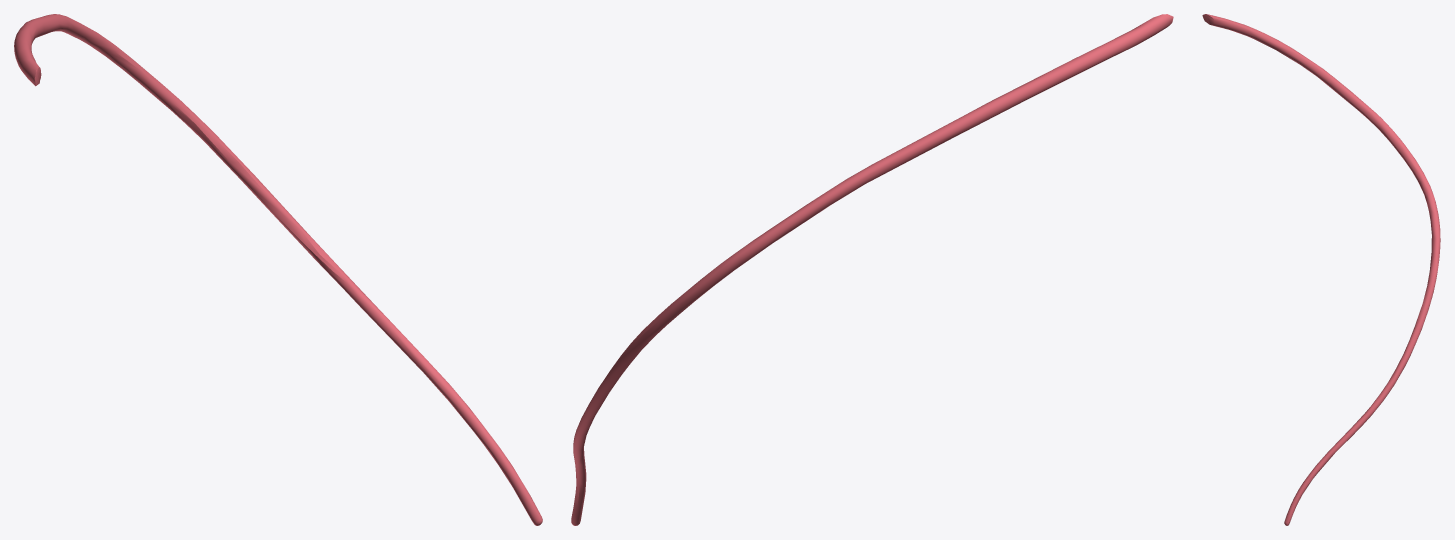
The model's file is fma4951_fj1987.glb.
3 views of the same model, side by side, from view 1: azimuth 30°, elevation 25°; view 2: azimuth 150°, elevation 25°; view 3: azimuth 270°, elevation 25° (orthographic). The views are drawn at different scales.
Visible parts, largest first — view 1: FMA4951_FJ1987; view 2: FMA4951_FJ1987; view 3: FMA4951_FJ1987.
Boxes of the visible parts, x1=… form: FMA4951_FJ1987: x1=14, y1=14, x2=542, y2=525; FMA4951_FJ1987: x1=571, y1=14, x2=1173, y2=525; FMA4951_FJ1987: x1=1202, y1=14, x2=1440, y2=525.
Bounding box in the file's own units: 0.0609 × 0.0647 × 0.039.
